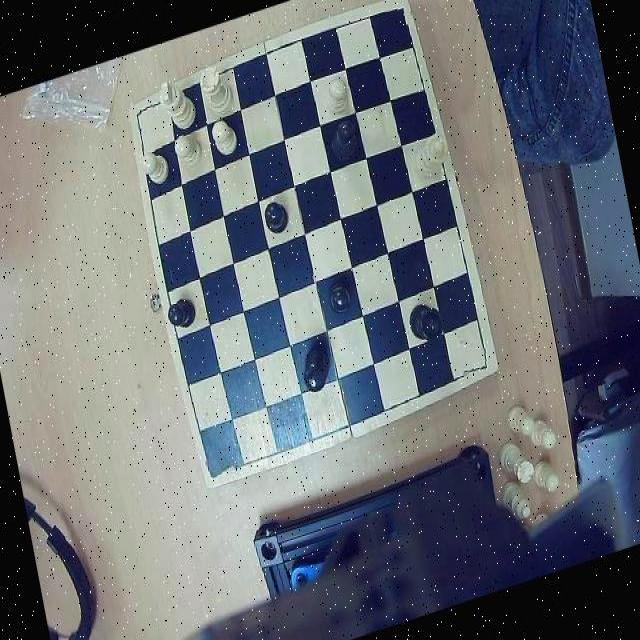chess-table-corners: (200, 448, 236, 487), (461, 342, 496, 382), (383, 0, 414, 31), (129, 100, 156, 132)
